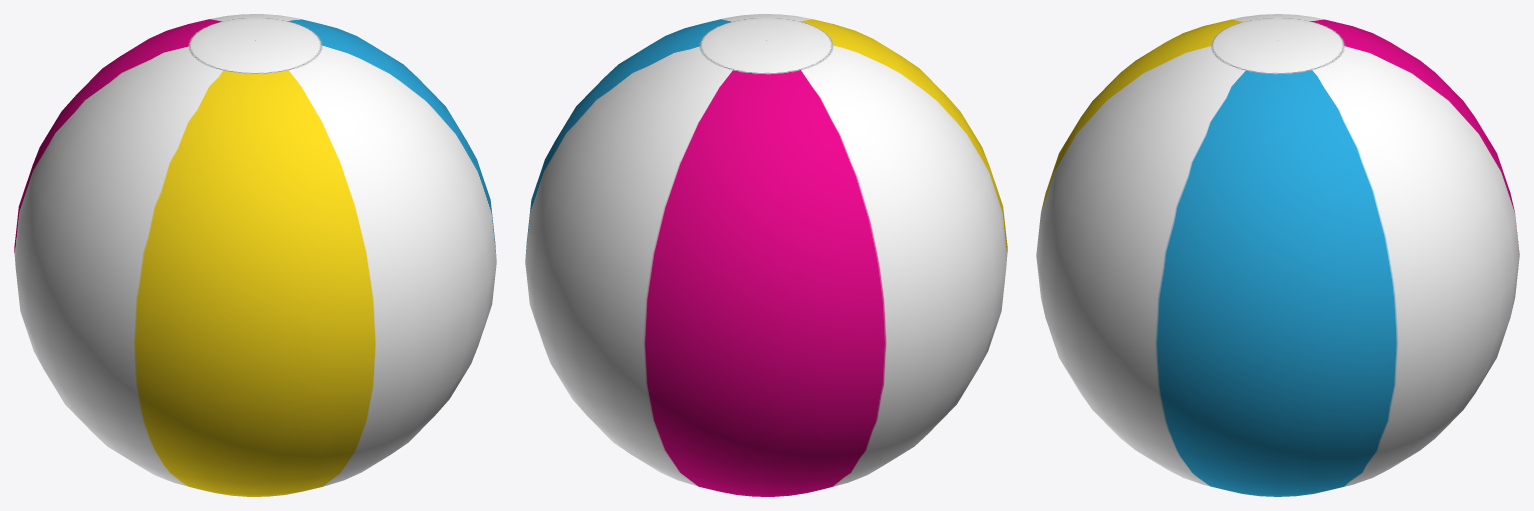
Rendered from beachball.fbx.
3 views of the same model, side by side, from view 1: azimuth 30°, elevation 25°; view 2: azimuth 150°, elevation 25°; view 3: azimuth 270°, elevation 25° (orthographic).
Visible parts, largest first — view 1: Sphere; view 2: Sphere; view 3: Sphere.
Part boxes in pixels (left/top/right/bottom): Sphere: left=14, top=14, right=496, bottom=496; Sphere: left=525, top=14, right=1007, bottom=496; Sphere: left=1036, top=14, right=1519, bottom=496.
Size of the model in its own units: 200 by 200 by 196.
Materials: 1 (1 with a texture image).
